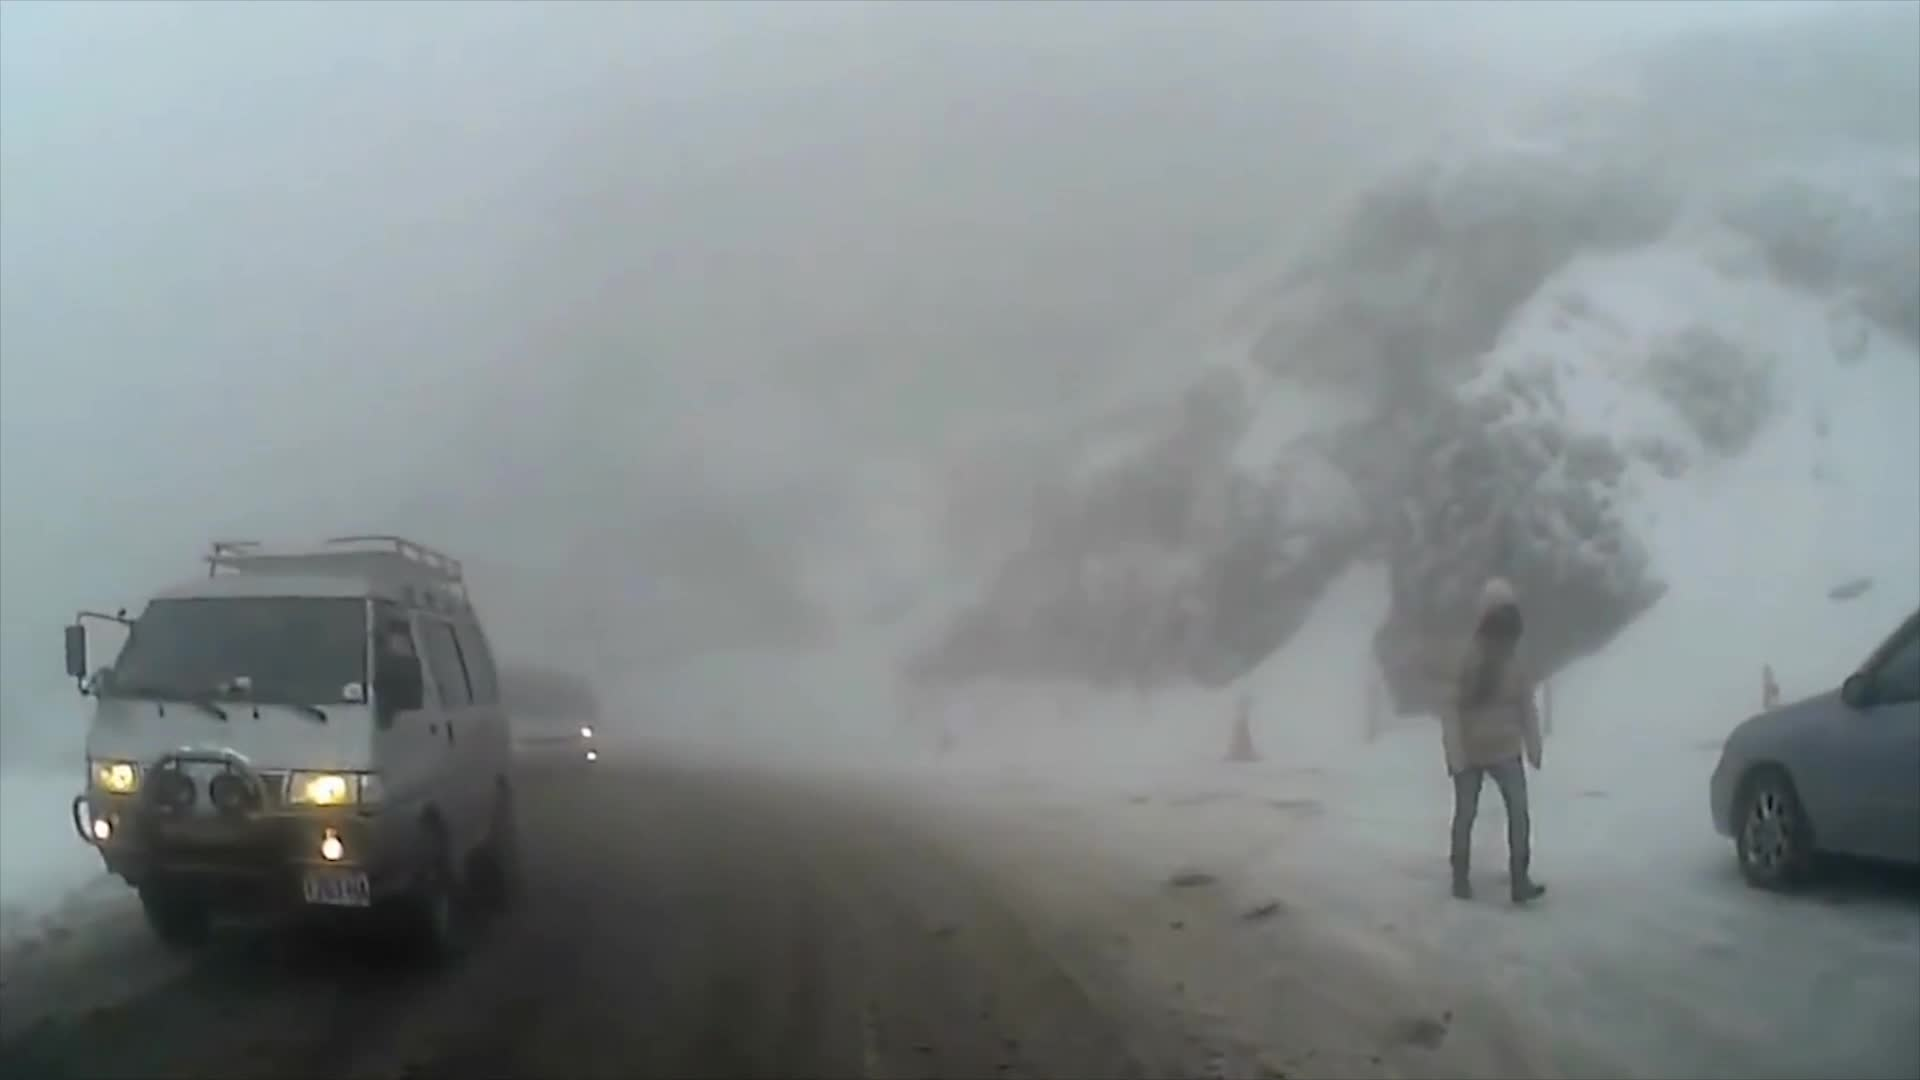pedestrian: (1437, 578, 1542, 909)
vehicle: (61, 533, 518, 971), (1708, 596, 1920, 891), (453, 669, 602, 786)
